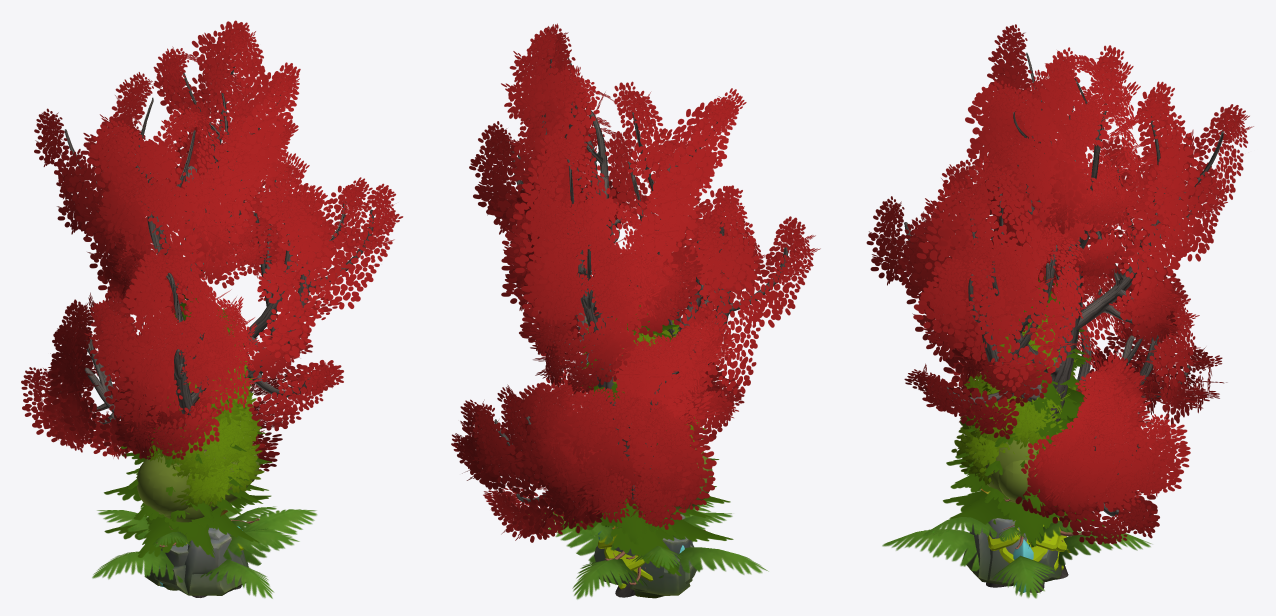
File: nature.glb
The picture shows the model from 3 angles, left to right: view 1: azimuth 30°, elevation 25°; view 2: azimuth 150°, elevation 25°; view 3: azimuth 270°, elevation 25°; orthographic projection. The views are drawn at different scales.
Parts seen in each view (by area): view 1: TwistedTree_3, TwistedTree_4, Fern_1, Pine_2, Rock_Medium_1, CommonTree_1, CommonTree_3, Tree_3, CommonTree_2, Pine_4, Rock_Medium_2; view 2: TwistedTree_3, TwistedTree_4, Fern_1, Pine_2, Rock_Medium_2, Pine_4, Bush; view 3: TwistedTree_3, TwistedTree_4, Fern_1, Pine_4, Pine_2, CommonTree_2, Rock_Medium_1, CommonTree_1, Bush, Tree_3, CommonTree_3, Tree_4.
Part boxes in pixels (box(x1,y1,x2,y2)): TwistedTree_3: box(21, 100, 403, 597); TwistedTree_4: box(34, 20, 372, 597); Fern_1: box(92, 503, 317, 598); Pine_2: box(104, 406, 271, 557); Rock_Medium_1: box(154, 527, 248, 595); CommonTree_1: box(148, 407, 264, 507); CommonTree_3: box(157, 368, 261, 480); Tree_3: box(136, 448, 259, 515); CommonTree_2: box(147, 395, 262, 509); Pine_4: box(104, 292, 272, 547); Rock_Medium_2: box(144, 543, 188, 590); TwistedTree_3: box(451, 110, 820, 597); TwistedTree_4: box(478, 23, 768, 597); Fern_1: box(528, 501, 768, 599); Pine_2: box(557, 486, 733, 575); Rock_Medium_2: box(592, 536, 692, 595); Pine_4: box(582, 285, 730, 585); Bush: box(598, 525, 652, 589); TwistedTree_3: box(866, 119, 1229, 592); TwistedTree_4: box(894, 24, 1253, 592); Fern_1: box(882, 515, 1151, 598); Pine_4: box(946, 276, 1091, 549); Pine_2: box(943, 396, 1104, 546); CommonTree_2: box(951, 377, 1070, 482); Rock_Medium_1: box(962, 518, 1026, 586); CommonTree_1: box(956, 374, 1055, 485); Bush: box(987, 517, 1074, 570); Tree_3: box(998, 460, 1039, 502); CommonTree_3: box(958, 316, 1077, 444); Tree_4: box(983, 438, 1038, 503).
Bounding box in the file's own units: 11.36 × 18.93 × 12.13.
16 materials, 12 textured.
